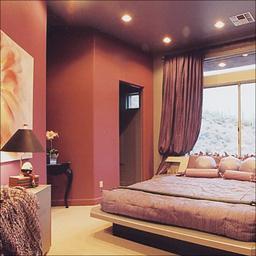Cama: (91, 158, 254, 254)
Ventana: (175, 62, 254, 157)
